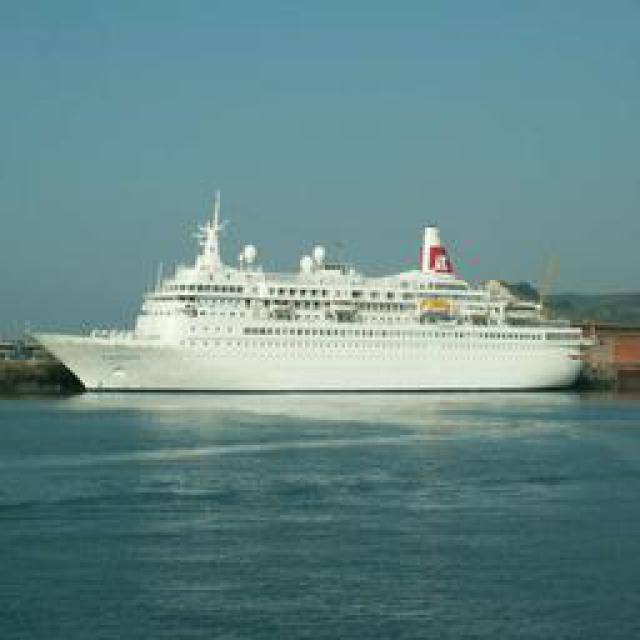Ship: (32, 197, 595, 397)
